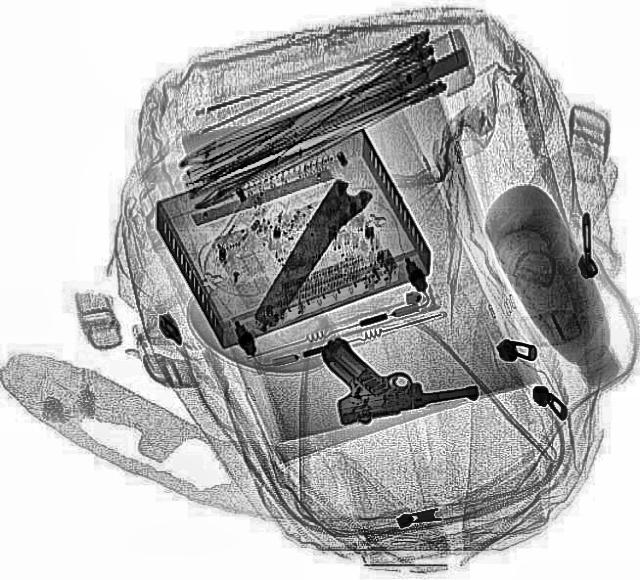Gun: (313, 318, 482, 428)
